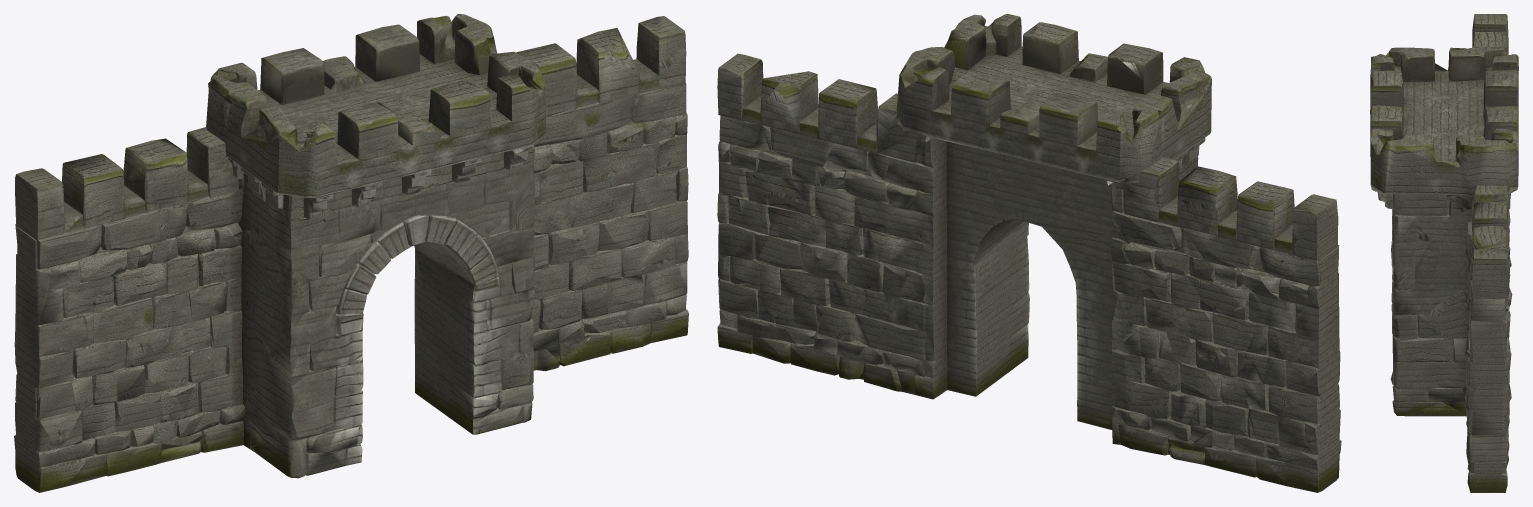
Rendered from wall_arch.glb.
3 views of the same model, side by side, from view 1: azimuth 30°, elevation 25°; view 2: azimuth 150°, elevation 25°; view 3: azimuth 270°, elevation 25° (orthographic). The views are drawn at different scales.
Bounding box in the file's own units: 1.9 × 0.9903 × 0.4864.
Materials: 1 (1 with a texture image).
